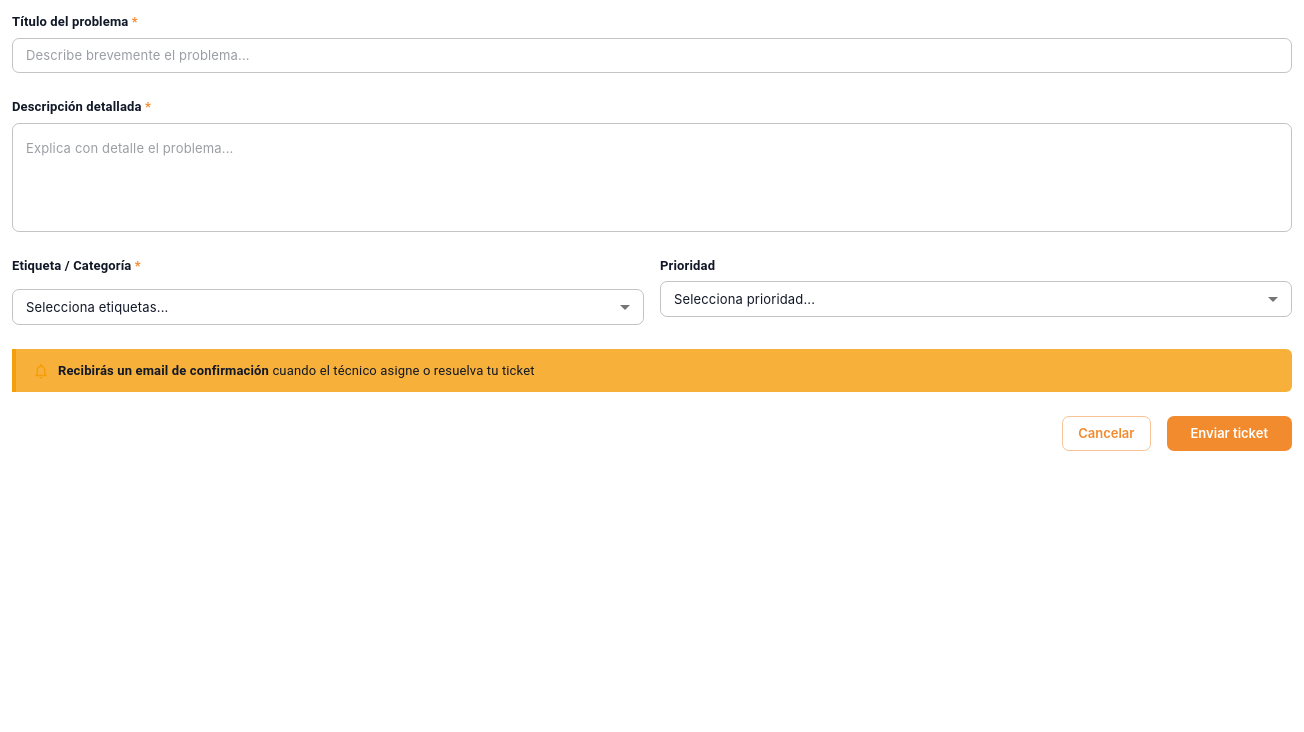
Test: CreateTicketForm › muestra todos los errores de validación al enviar el formulario vacío
Click the button "Enviar ticket". click: (1229, 434)
box: [1166,416,1292,451]
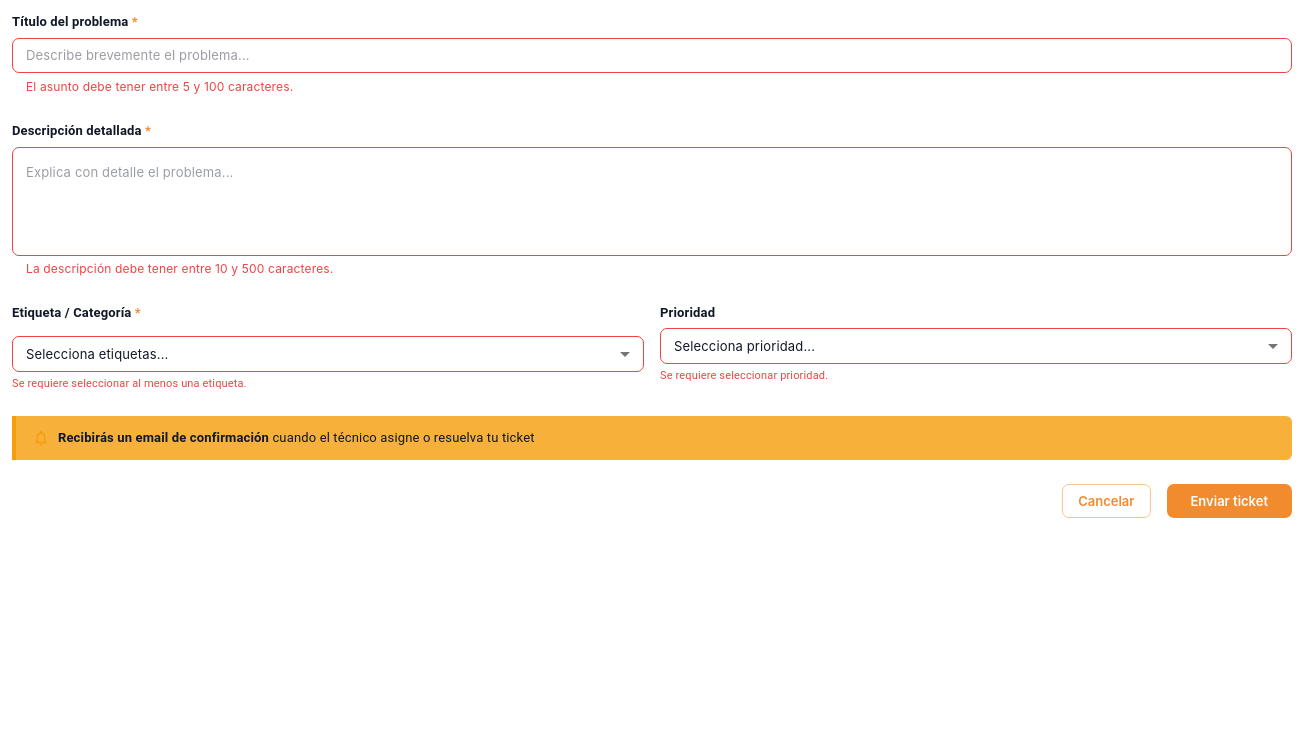
Expected: the text "El asunto debe tener entre 5 y 100 caracteres." is shown, [26,79,293,94]
Expected: the text "La descripción debe tener entre 10 y 500 caracteres." is shown, [26,261,333,276]
Expected: the text "Se requiere seleccionar prioridad." is shown, [660,369,828,382]
